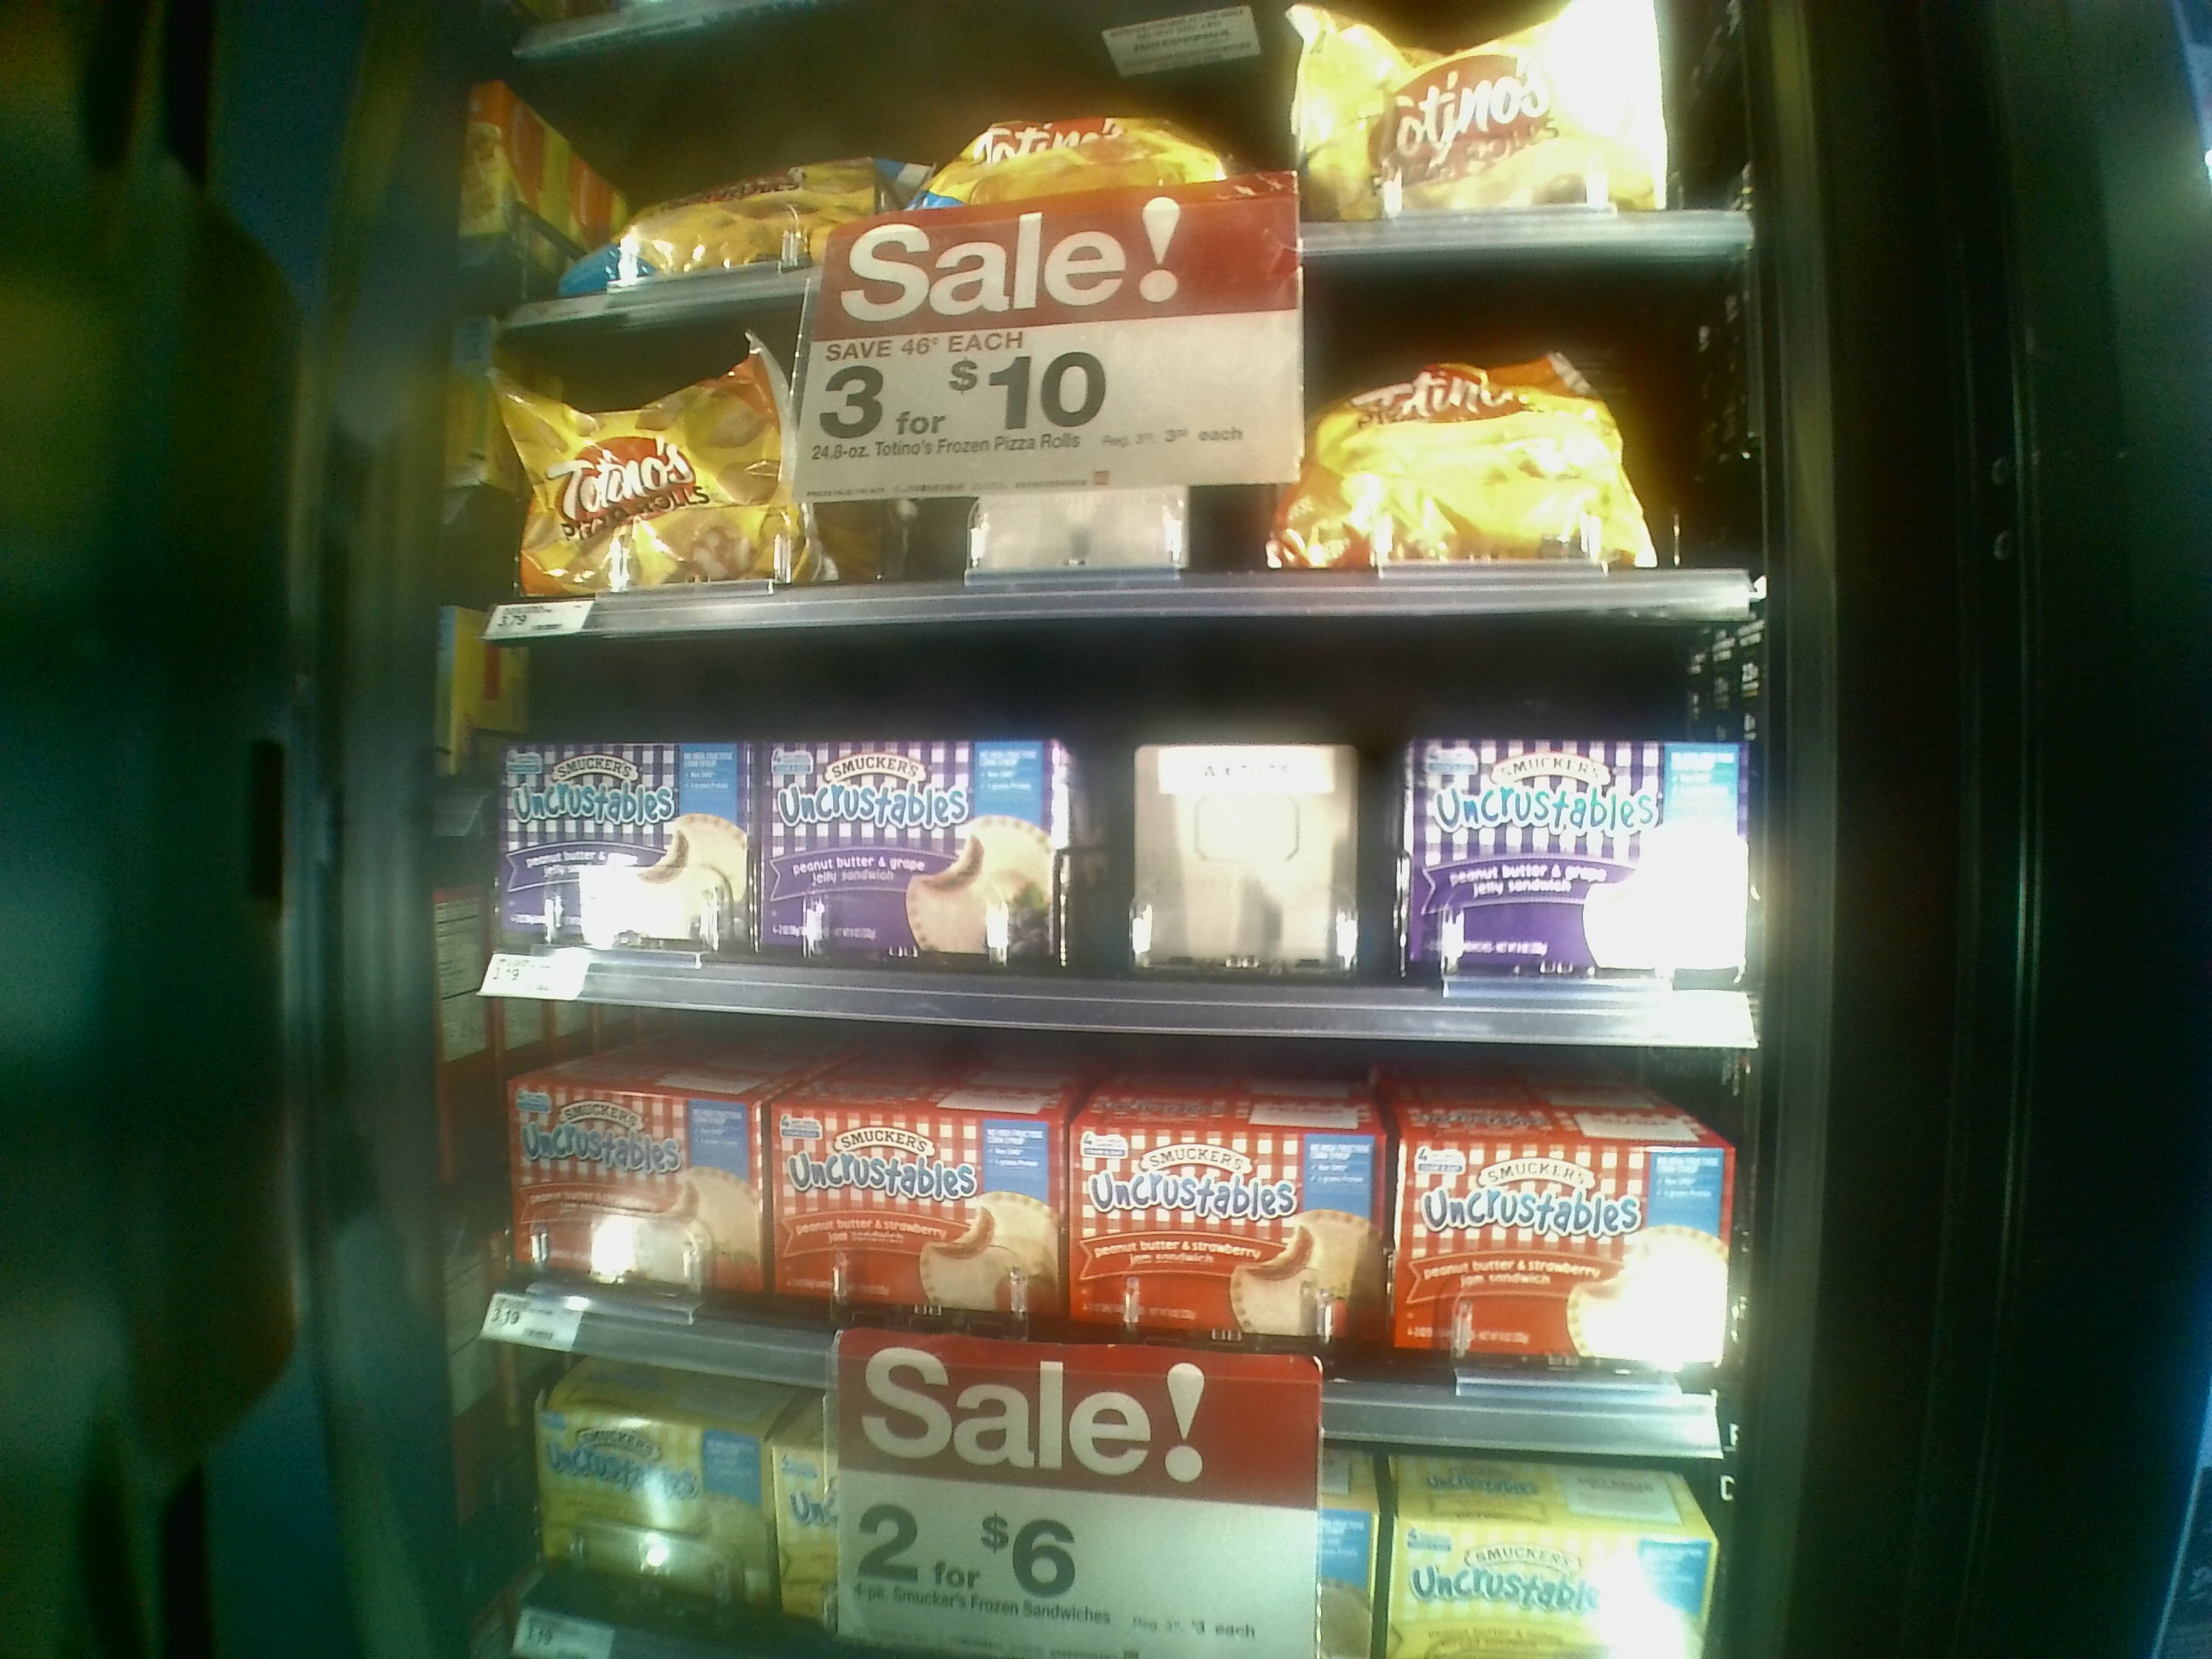shelf: (456, 978, 1726, 1448), (456, 605, 1757, 1025), (465, 314, 1740, 603)
